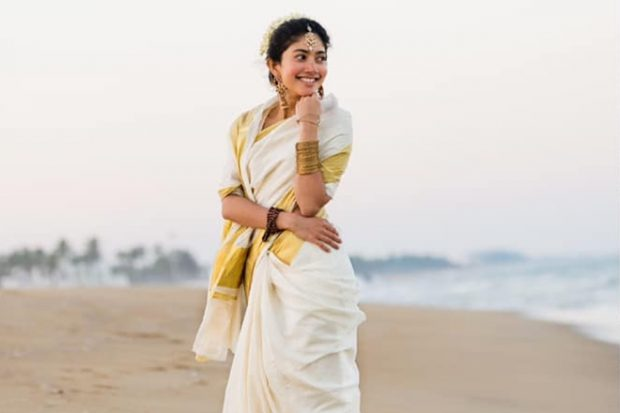person: (219, 13, 371, 407)
